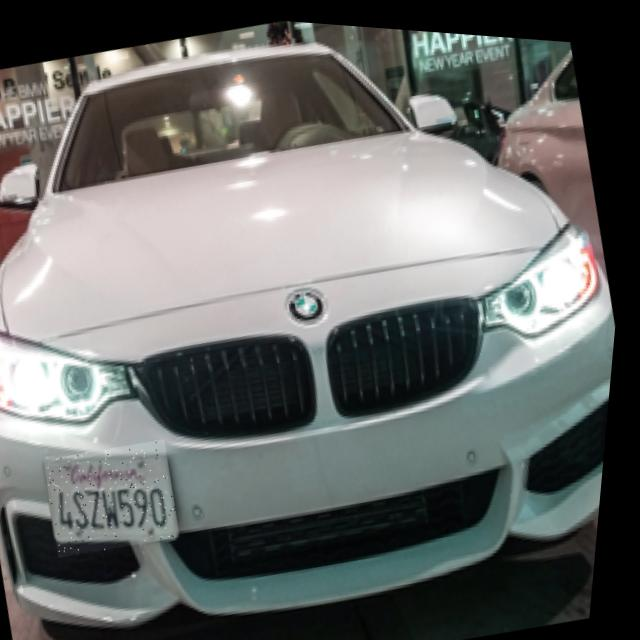license_plate: (45, 429, 196, 562)
